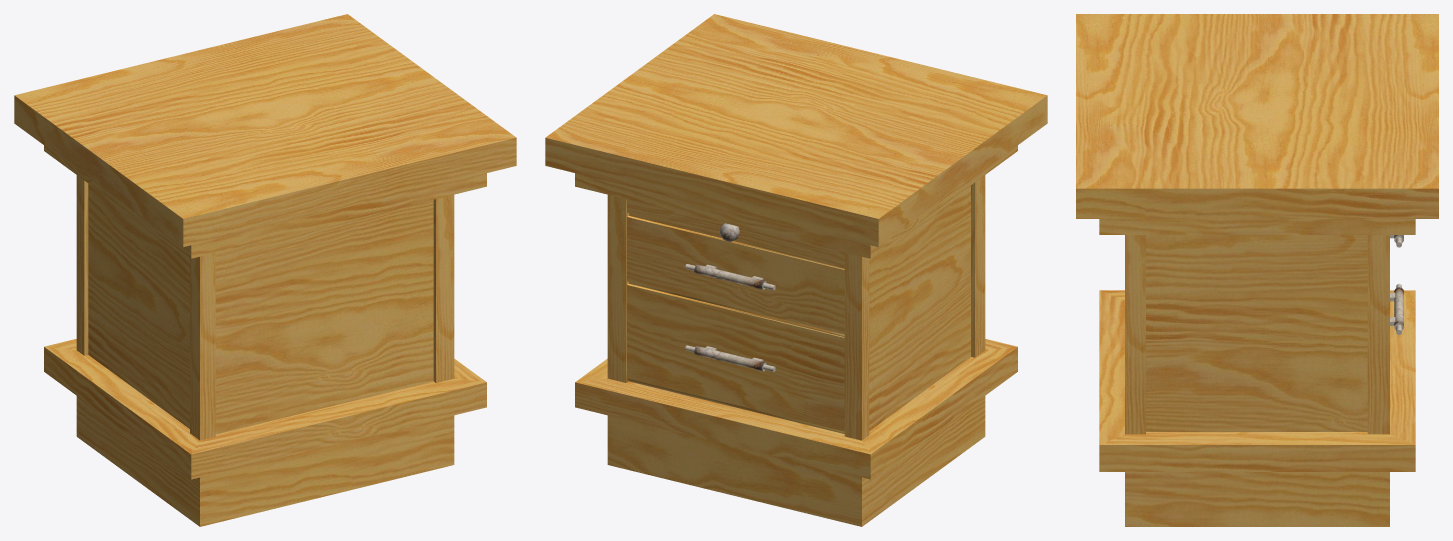
The model's file is dresser02.obj.
3 views of the same model, side by side, from view 1: azimuth 30°, elevation 25°; view 2: azimuth 150°, elevation 25°; view 3: azimuth 270°, elevation 25° (orthographic). The views are drawn at different scales.
Visible parts, largest first — view 1: mesh; view 2: mesh; view 3: mesh.
Boxes of the visible parts, x1,y1,x2,y2 form: mesh: [14, 14, 516, 526]; mesh: [545, 14, 1047, 526]; mesh: [1076, 14, 1438, 526].
Size of the model in its own units: 36.83 by 35.3 by 32.34.
1 material, 1 textured.
